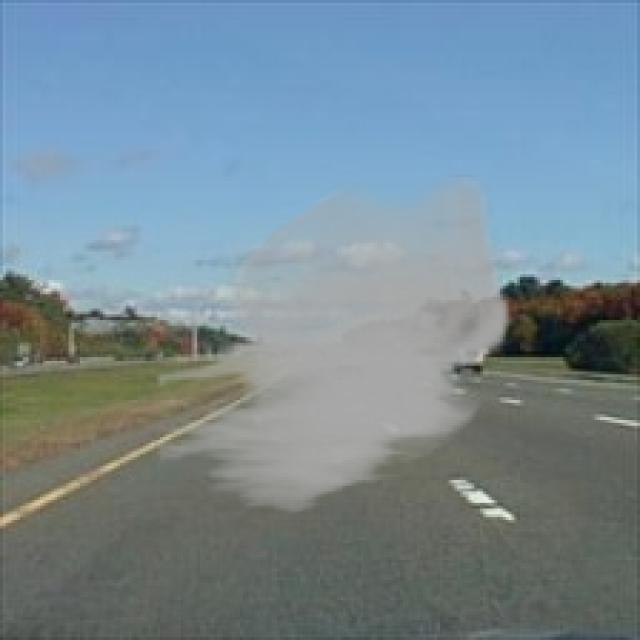smoke: (154, 174, 512, 517)
